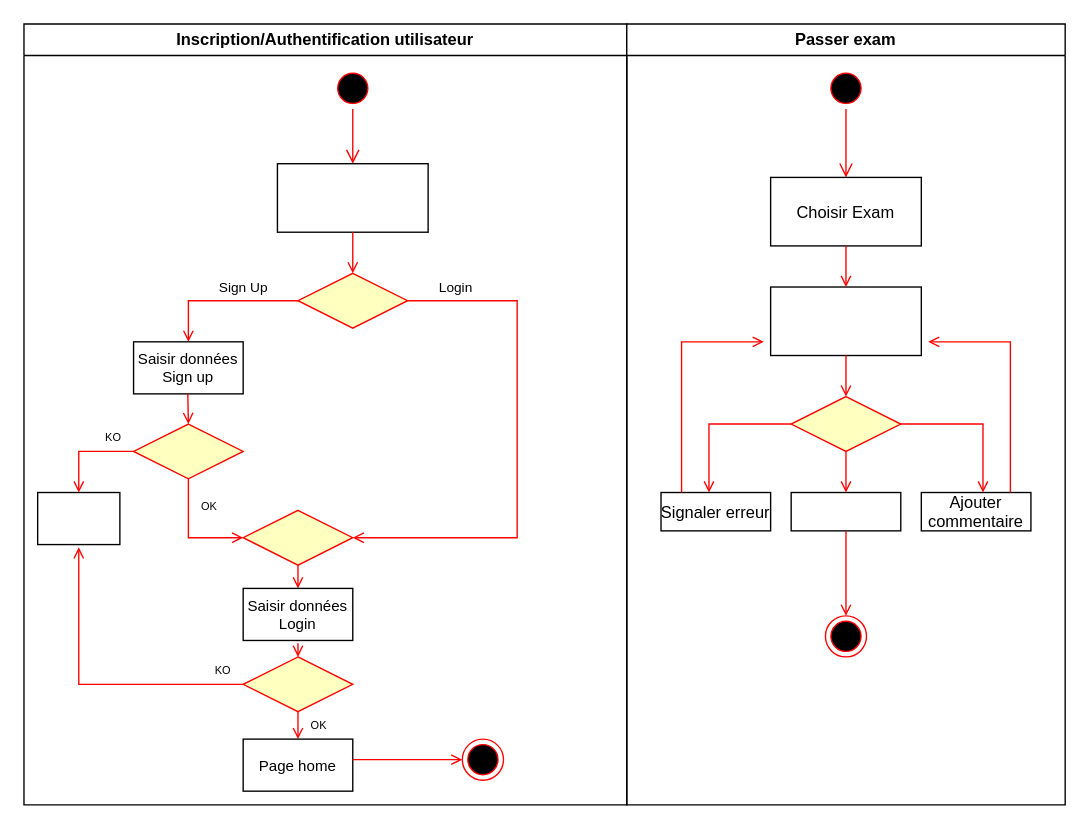
Some shapes in this 1089 by 829 pixel diagram are drawn without their labels. The shapes that lost their labels are listed below. From the top down, each one's box as (x1, y1, x2, y2) in pixels, then its label:
(276, 162, 428, 232): Choisir Sign up/Login
(769, 286, 921, 356): Passer Test
(36, 491, 120, 545): Message erreur
(790, 491, 901, 531): Voir résultats
